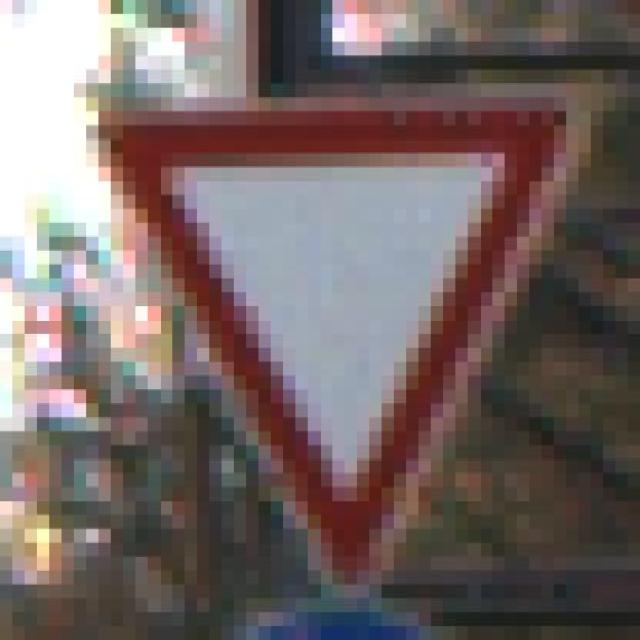Give Way: (57, 56, 635, 613)
